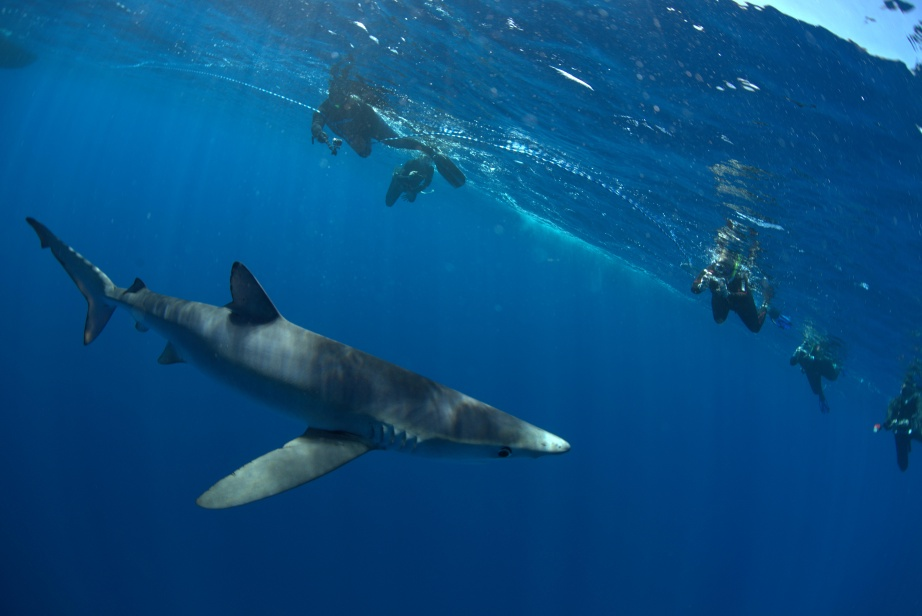Azul: (7, 180, 586, 515)
